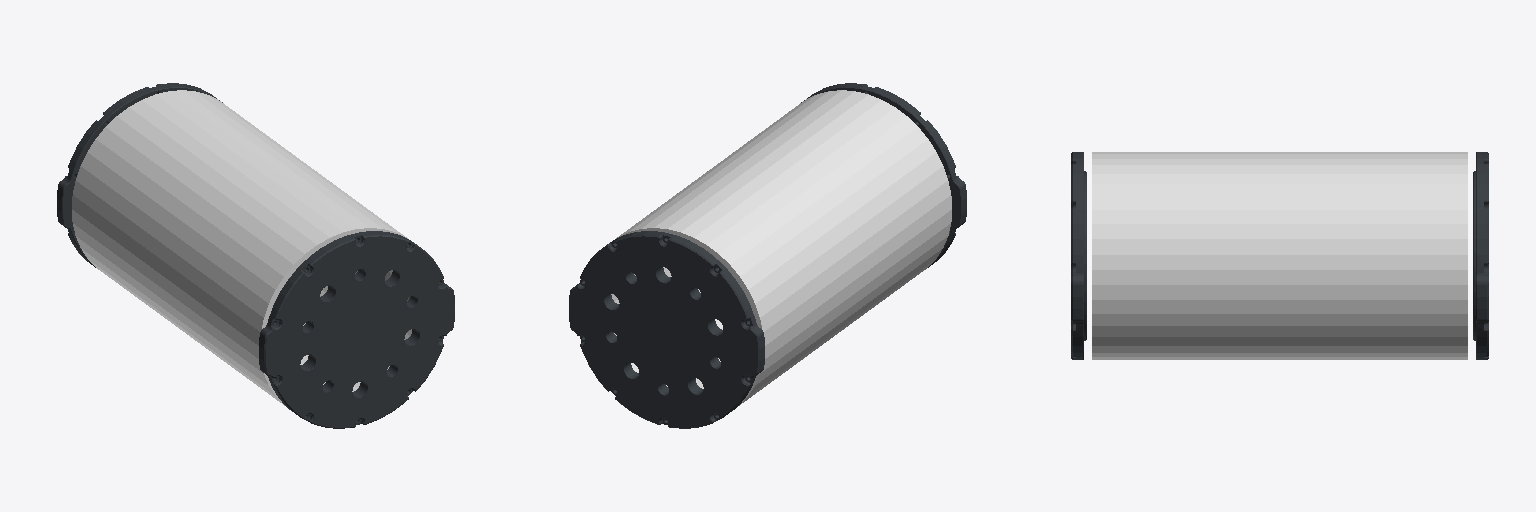
The model's file is payload_v2.obj.
The picture shows the model from 3 angles: view 1: azimuth 30°, elevation 25°; view 2: azimuth 150°, elevation 25°; view 3: azimuth 270°, elevation 25°; orthographic projection.
Visible parts, largest first — view 1: mesh1, mesh214, mesh193, mesh151, mesh210, mesh2; view 2: mesh1, mesh214, mesh193, mesh210, mesh151, mesh0; view 3: mesh1, mesh151, mesh210, mesh78, mesh198.
Part boxes in pixels (x1,y1,x2,y2): mesh1: (72,90,403,402); mesh214: (266,236,454,427); mesh193: (63,88,214,264); mesh151: (67,83,292,411); mesh210: (68,229,410,325); mesh2: (262,228,407,405); mesh1: (620,90,951,402); mesh214: (569,236,757,427); mesh193: (809,88,960,264); mesh210: (731,83,956,411); mesh151: (613,229,955,325); mesh0: (616,228,761,405); mesh1: (1092,152,1467,359); mesh151: (1073,152,1486,359); mesh210: (1073,152,1486,359); mesh78: (1073,285,1486,318); mesh198: (1084,171,1475,340).
Bounding box in the file's own units: 0.1751 × 0.1653 × 0.3304.